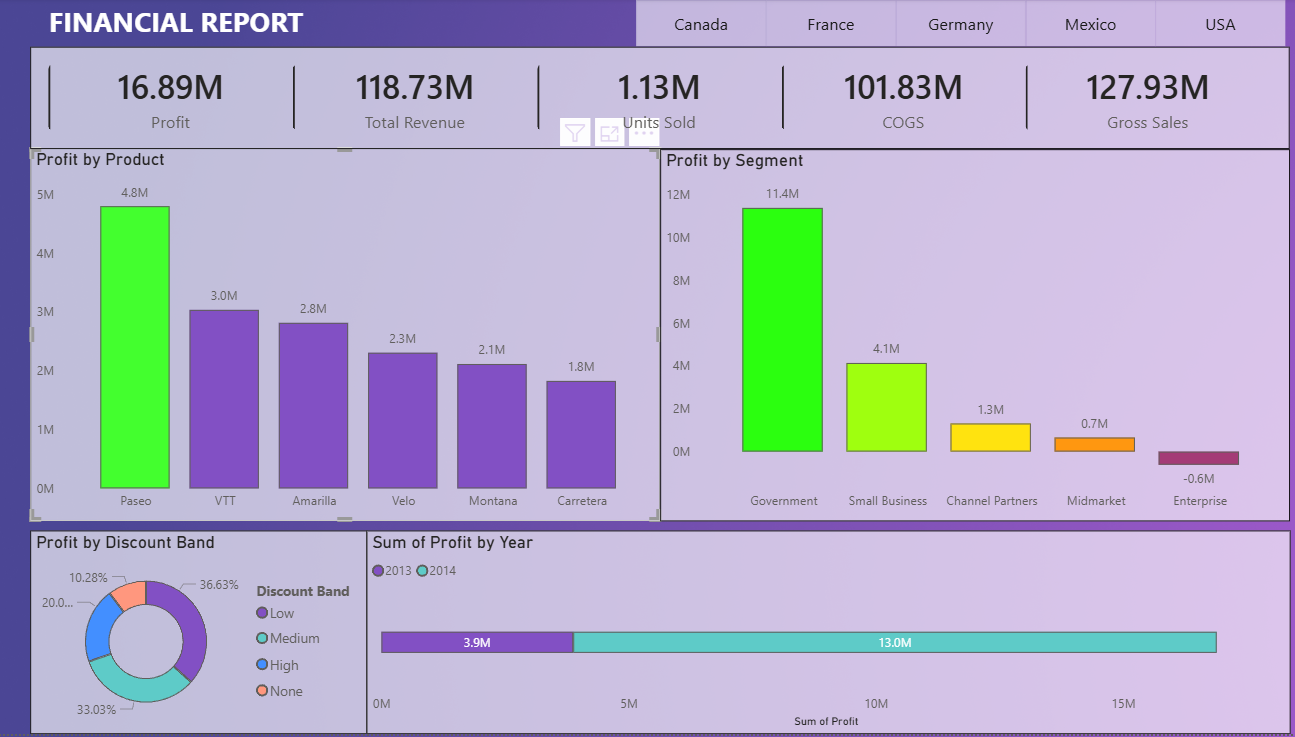

The page's visual inventory and layout, read from the dashboard file:
{"tool":"powerbi","page":{"name":"Page 1","canvas":[1280,720],"ordinal":0},"visuals":[{"type":"advancedSlicerVisual","fields":{"Values":["financials.Country"]},"box":[627.3,1.2,640.8,47.7],"z":0},{"type":"columnChart","title":"Profit by Product","fields":{"Y":["Sum(financials.Profit)"],"Category":["financials.Product"]},"box":[35.5,146.7,616.3,364.4],"z":1000},{"type":"clusteredColumnChart","title":"Profit by Segment","fields":{"Category":["financials.Segment"],"Y":["Sum(financials.Profit)"]},"box":[651.8,148.2,616.1,363.6],"z":2000},{"type":"cardVisual","fields":{"Data":["Sum(financials.Profit)","Sum(financials. Sales)","Sum(financials.Units Sold)","Sum(financials.COGS)","Sum(financials.Gross Sales)"]},"box":[35.7,48,1232.3,100.2],"z":3000},{"type":"donutChart","title":"Profit by Discount Band","fields":{"Category":["financials.Discount Band"],"Y":["Sum(financials.Profit)"]},"box":[35.7,521.4,329.3,199],"z":4000},{"type":"barChart","fields":{"Y":["Sum(financials.Profit)"],"Series":["financials.Date.Variation.Date Hierarchy.Year"]},"box":[364.4,520.9,903.7,199.3],"z":5000},{"type":"textbox","box":[48.9,0,275.1,47.7],"z":6000}]}

Visuals, with their boxes in screenshot pixels (x1, y1, x2, y2), scaled from the page's 1280x720 canvas onto the 1295x737 screenshot:
advancedSlicerVisual - financials.Country: crop(635, 1, 1283, 50)
"Profit by Product" columnChart: crop(36, 150, 659, 523)
"Profit by Segment" clusteredColumnChart: crop(659, 152, 1283, 524)
cardVisual - Sum(financials.Profit) x Sum(financials. Sales): crop(36, 49, 1283, 152)
"Profit by Discount Band" donutChart: crop(36, 534, 369, 736)
barChart - Sum(financials.Profit) x financials.Date.Variation.Date Hierarchy.Year: crop(369, 533, 1283, 736)
textbox: crop(49, 0, 328, 49)
